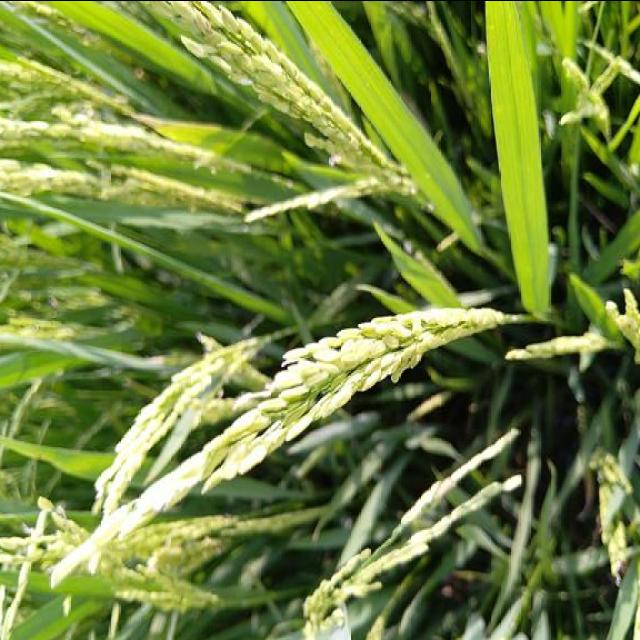Panicle Blight: (192, 16, 217, 41), (392, 351, 404, 373), (173, 12, 186, 22)
